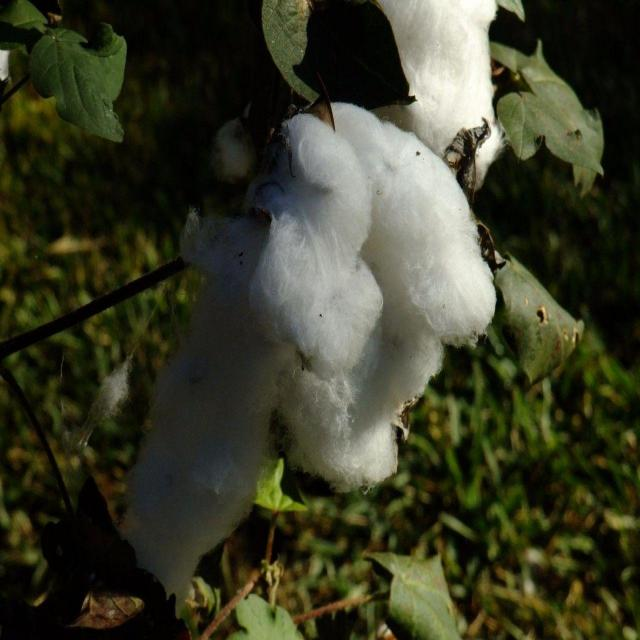Late_blight: (109, 93, 505, 616)
